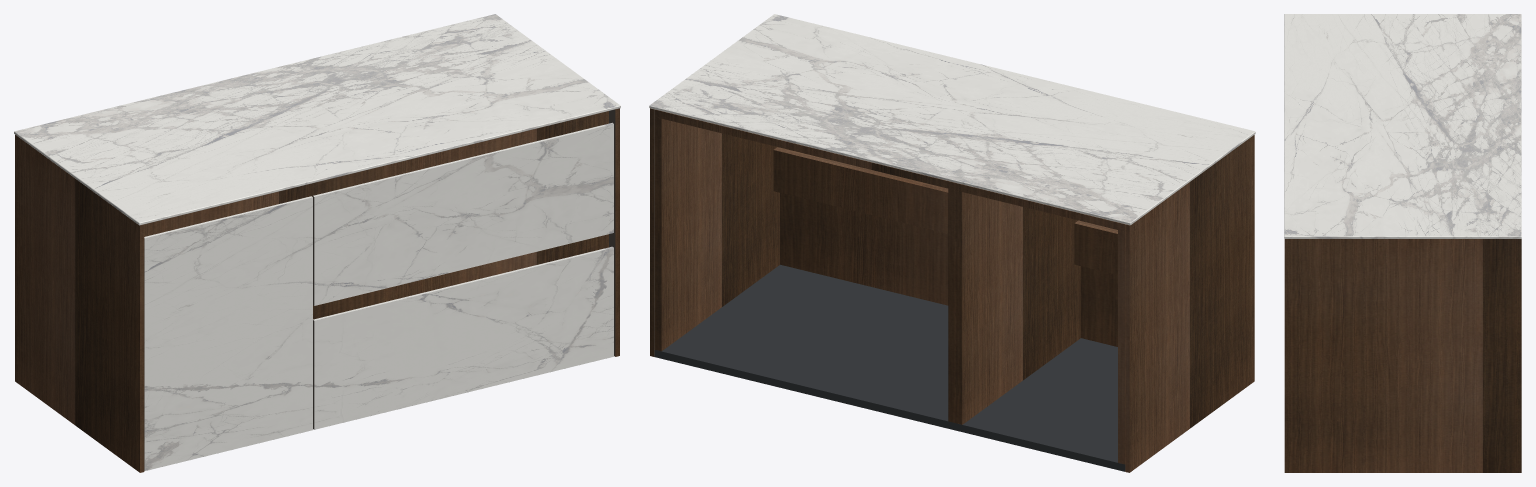
File: EL06fix.glb
3 renders of one model, left to right at view 1: azimuth 30°, elevation 25°; view 2: azimuth 150°, elevation 25°; view 3: azimuth 270°, elevation 25°, orthographic. The views are drawn at different scales.
Parts seen in each view (by area): view 1: EL06; view 2: EL06; view 3: EL06.
Boxes of the visible parts, <box> form: EL06: <box>14,14,620,472</box>; EL06: <box>649,14,1255,472</box>; EL06: <box>1284,14,1521,472</box>.
Bounding box in the file's own units: 1.1 × 0.546 × 0.4961.
4 materials, 2 textured.
